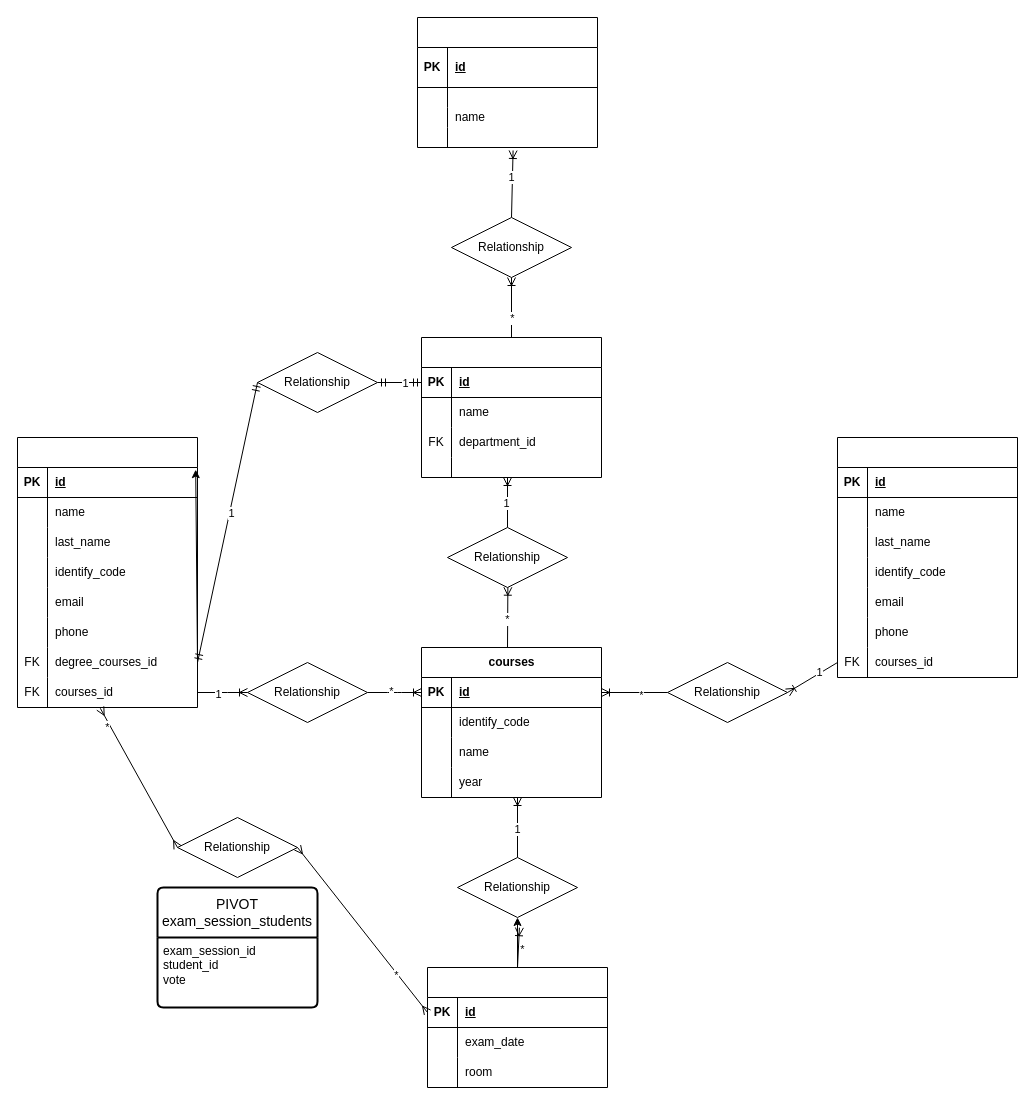
Image size: 1035x1105. Some labels were removed from this diagram. The box of each missing label's shape, as (x1, y1, x2, y2) in pixels:
degree_courses: (420, 336, 602, 478)
departments: (416, 16, 598, 148)
exam_sessions: (426, 966, 608, 1088)
students: (16, 436, 198, 708)
teachers: (836, 436, 1018, 678)
